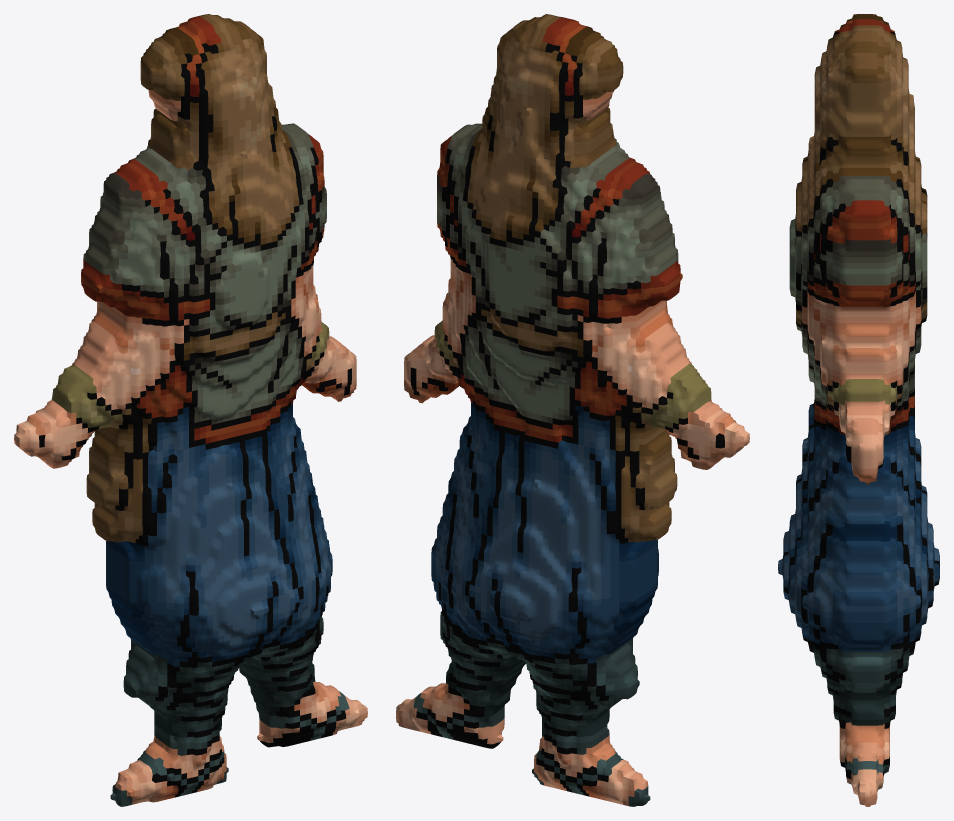
The model's file is Fight_750_1_02.obj.
3 renders of one model, left to right at view 1: azimuth 30°, elevation 25°; view 2: azimuth 150°, elevation 25°; view 3: azimuth 270°, elevation 25°, orthographic. The views are drawn at different scales.
Size of the model in its own units: 6.2 by 12.9 by 2.59.
Materials: 1 (1 with a texture image).
